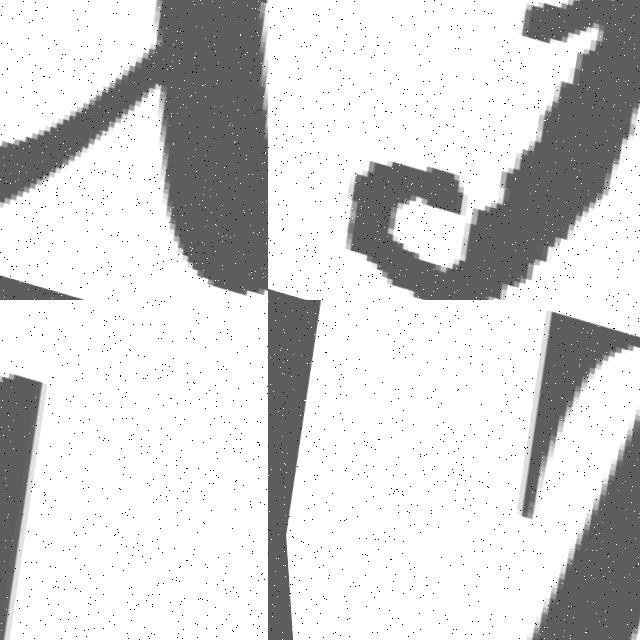I: (0, 300, 170, 640)
J: (285, 0, 640, 300)
X: (0, 0, 268, 300)
Z: (391, 300, 640, 640)
